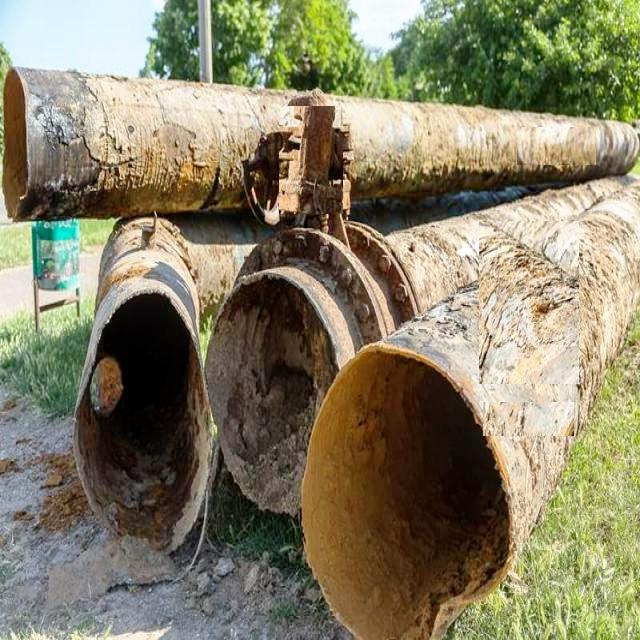Corrosion: (243, 93, 352, 242), (4, 68, 98, 220)
